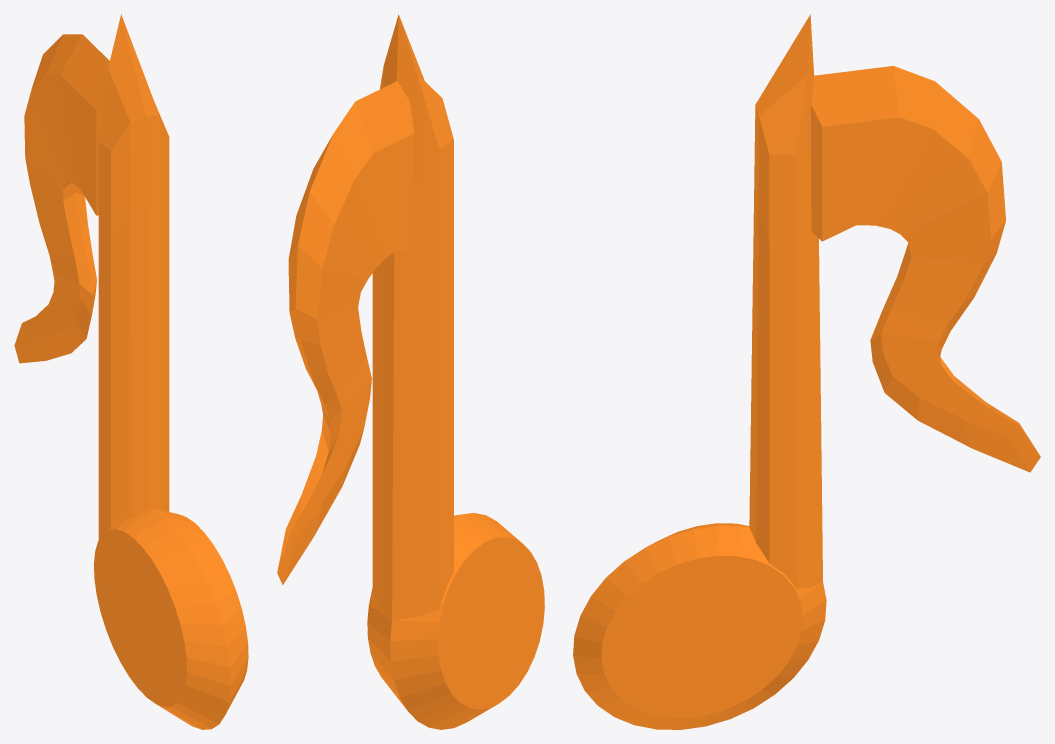
The model's file is proj2.glb.
3 renders of one model, left to right at view 1: azimuth 30°, elevation 25°; view 2: azimuth 150°, elevation 25°; view 3: azimuth 270°, elevation 25°, orthographic. The views are drawn at different scales.
Parts seen in each view (by area): view 1: Plane, Cube; view 2: Plane, Cube; view 3: Plane, Cube.
Boxes of the visible parts, box(x1,y1,x2,y2) form: Plane: box(94, 14, 248, 729); Cube: box(14, 34, 109, 363); Plane: box(367, 14, 544, 729); Cube: box(277, 81, 414, 584); Plane: box(573, 14, 826, 729); Cube: box(811, 66, 1040, 472).
Bounding box in the file's own units: 0.3052 × 3.13 × 1.85.
